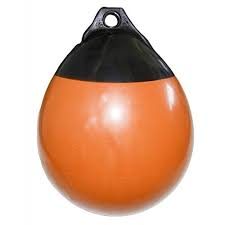buoy: (37, 73, 194, 216)
